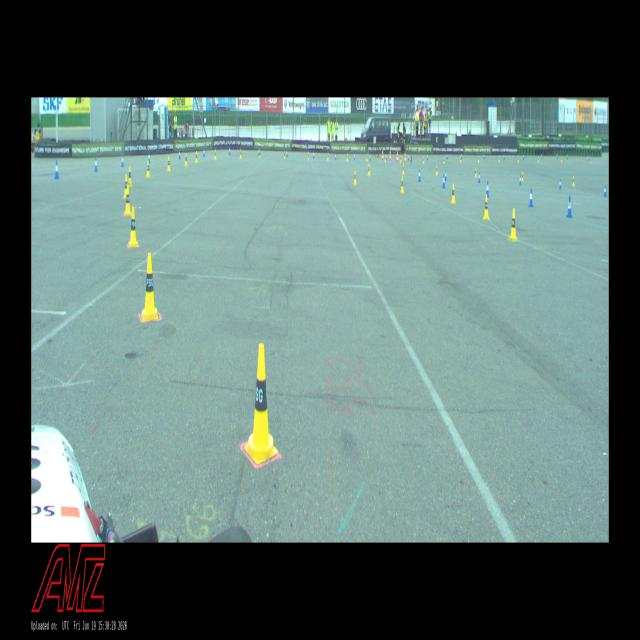blue_cone: (566, 196, 572, 217), (55, 160, 59, 178), (529, 188, 533, 206), (94, 156, 98, 172), (486, 181, 490, 197), (418, 168, 421, 182), (442, 174, 445, 188), (122, 154, 124, 167), (148, 152, 150, 164), (604, 186, 606, 197), (444, 170, 446, 181), (478, 172, 480, 183), (519, 175, 521, 185), (559, 179, 561, 189), (203, 148, 205, 157), (179, 150, 181, 158), (228, 147, 230, 155)
yellow_cone: (245, 344, 278, 464), (142, 253, 158, 321), (128, 207, 138, 247), (509, 208, 517, 240), (125, 185, 132, 216), (483, 195, 489, 219), (128, 166, 133, 186), (124, 175, 128, 199), (451, 184, 455, 203), (146, 160, 150, 177), (167, 157, 171, 171), (401, 176, 404, 192), (185, 153, 188, 166), (195, 151, 198, 163), (572, 176, 575, 186), (214, 150, 217, 160), (474, 167, 477, 177), (354, 171, 356, 184), (368, 164, 370, 175), (402, 163, 404, 174), (240, 149, 242, 158), (521, 172, 523, 181), (436, 166, 438, 174)
